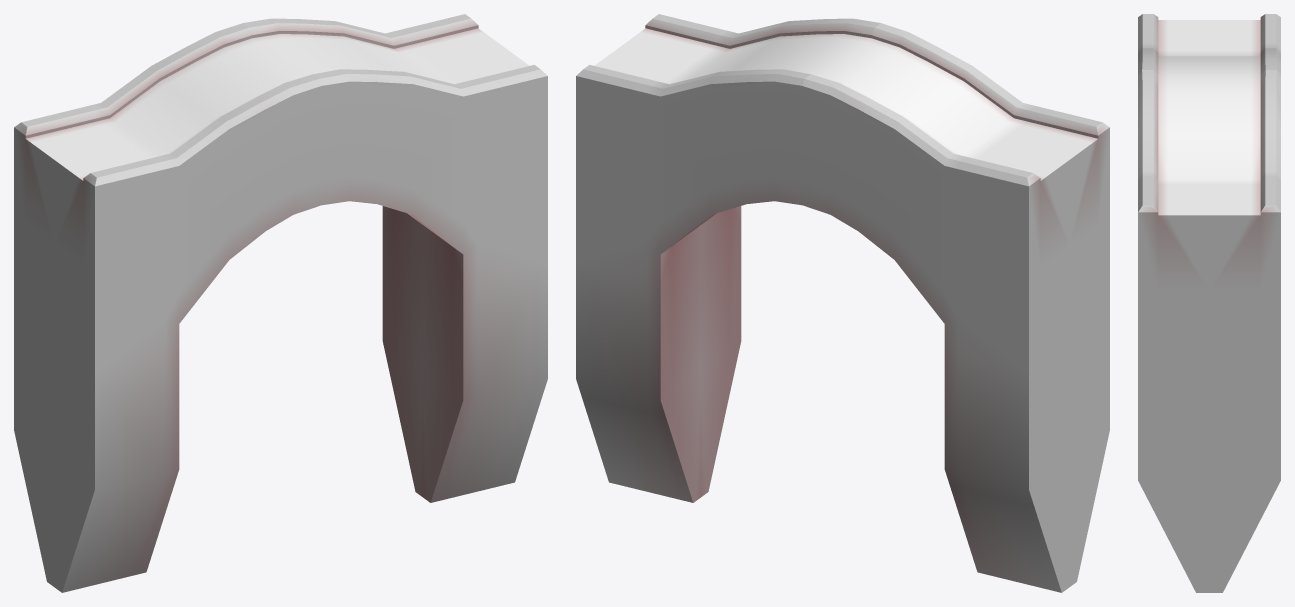
File: CityBridge_01.fbx
The picture shows the model from 3 angles, left to right: view 1: azimuth 30°, elevation 25°; view 2: azimuth 150°, elevation 25°; view 3: azimuth 270°, elevation 25°; orthographic projection. The views are drawn at different scales.
Parts seen in each view (by area): view 1: bridge; view 2: bridge; view 3: bridge.
Boxes of the visible parts, x1=… form: bridge: x1=14, y1=14, x2=547, y2=592; bridge: x1=576, y1=14, x2=1109, y2=592; bridge: x1=1138, y1=14, x2=1280, y2=592.
Size of the model in its own units: 1279 by 1298 by 395.
